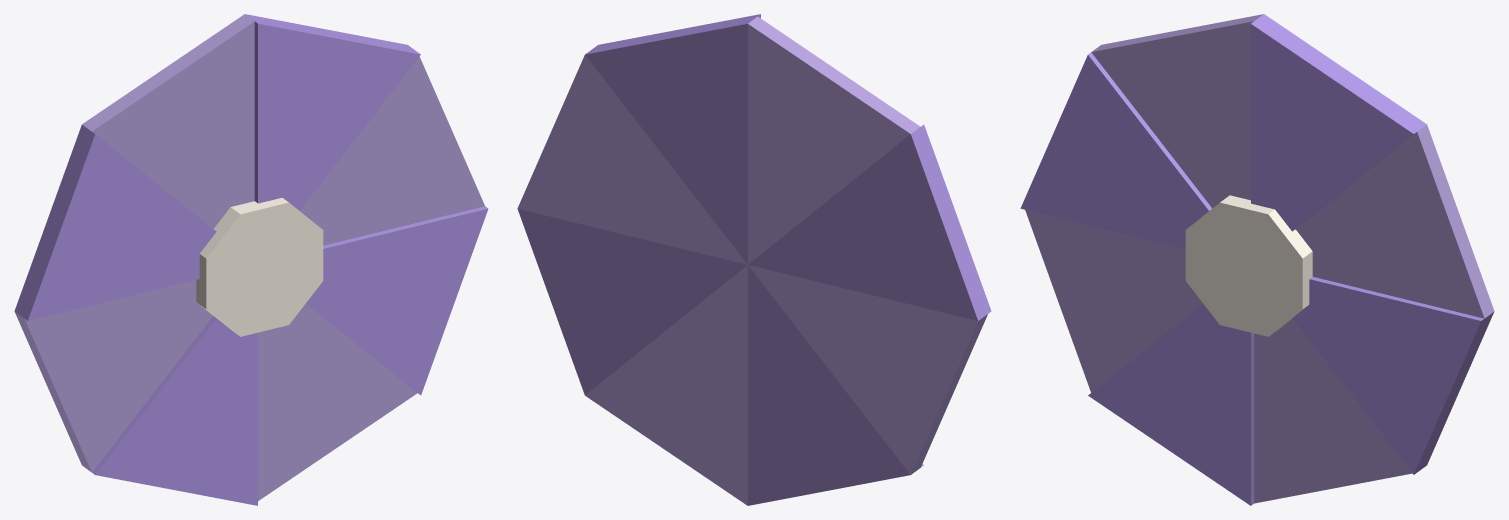
Rendered from palm_menu_disc.glb.
3 views of the same model, side by side, from view 1: azimuth 30°, elevation 25°; view 2: azimuth 150°, elevation 25°; view 3: azimuth 330°, elevation 25° (orthographic).
Parts seen in each view (by area): view 1: disc; view 2: disc; view 3: disc.
Boxes of the visible parts, box(x1,y1,x2,y2) form: disc: box(14, 14, 488, 505); disc: box(517, 14, 991, 505); disc: box(1020, 14, 1494, 505).
Bounding box in the file's own units: 0.08 × 0.08 × 0.006.
